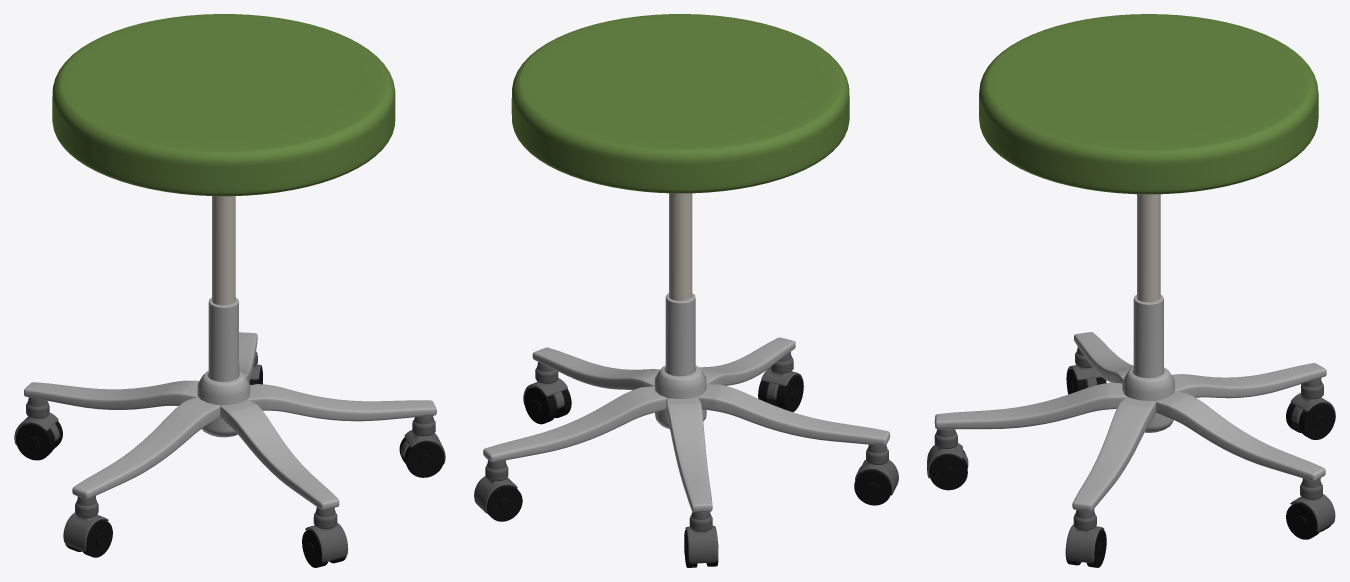
File: stool.fbx
3 views of the same model, side by side, from view 1: azimuth 30°, elevation 25°; view 2: azimuth 150°, elevation 25°; view 3: azimuth 270°, elevation 25° (orthographic).
Parts seen in each view (by area): view 1: i13DOF_Stool.Shape; view 2: i13DOF_Stool.Shape; view 3: i13DOF_Stool.Shape.
Boxes of the visible parts, x1,y1,x2,y2 form: i13DOF_Stool.Shape: (14,14,445,567); i13DOF_Stool.Shape: (474,14,898,567); i13DOF_Stool.Shape: (927,14,1335,567).
Bounding box in the file's own units: 52.8 × 54.66 × 50.3.
